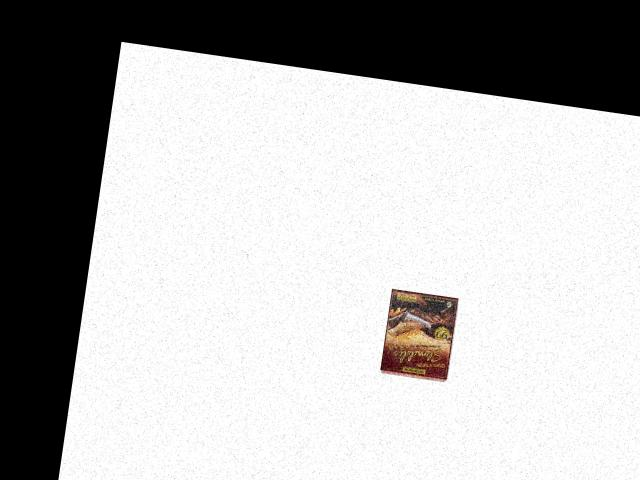chocolate: (380, 288, 459, 382)
